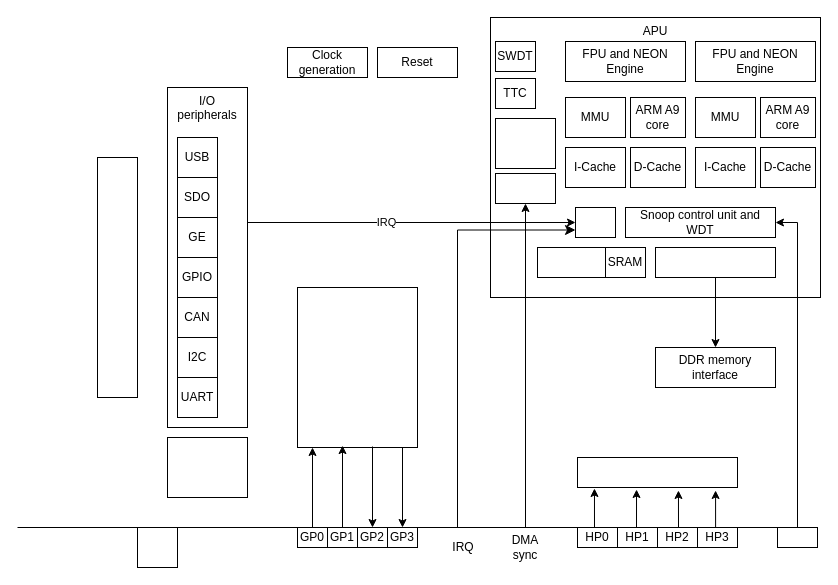
Image size: 838x585. Some labels were removed from this diagram. Here are the shapes that lost their labels. From the top down, the centre of each, then its label:
At pixel 525 143: "System control registers".
At pixel 525 188: "DMA 8 channel".
At pixel 595 222: "GIC".
At pixel 117 277: "Multiplexed IO".
At pixel 571 262: "OCM Interconnect".
At pixel 715 262: "512KB L2 cache and cache controller".
At pixel 357 367: "Central Interconnect".
At pixel 207 467: "Memory Interfaces".
At pixel 657 472: "PL to memory interconnect".
At pixel 157 547: "XADC 12-bit".
At pixel 797 537: "ACP".
